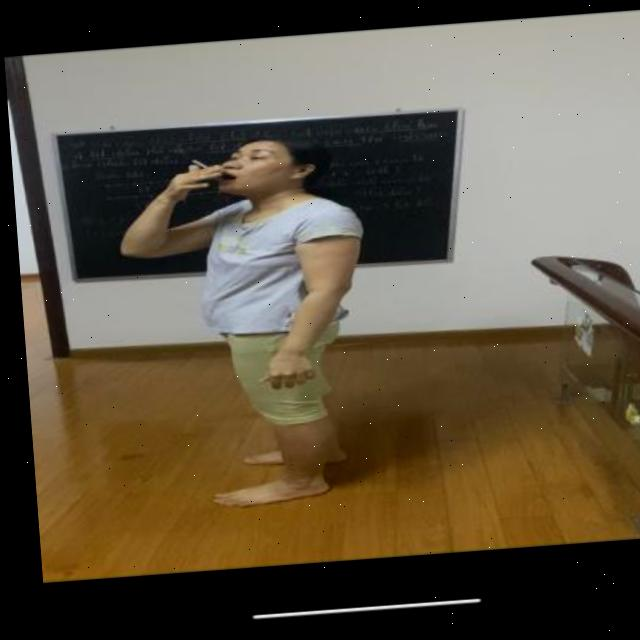cigarette: (188, 161, 205, 174)
